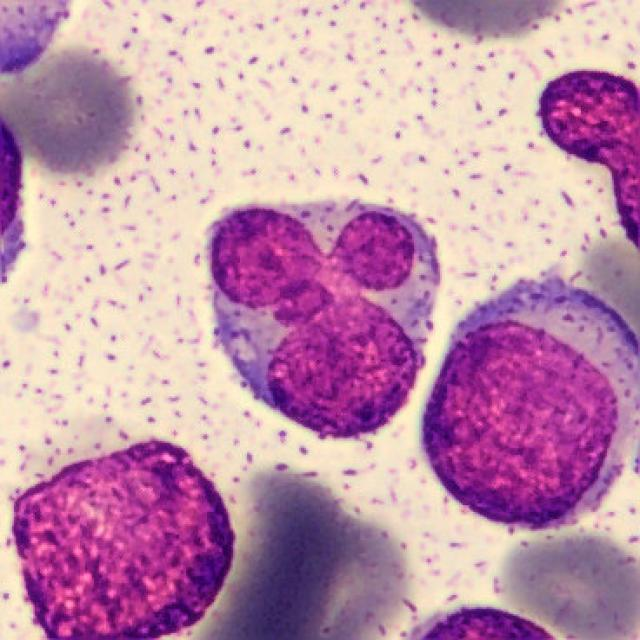Mieloblasto: (203, 202, 440, 439), (421, 278, 640, 531)
Restos celulares: (10, 441, 237, 640)
